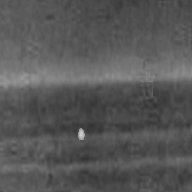Target: (77, 127, 86, 141)
